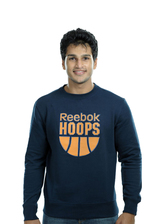clothoes: (19, 82, 143, 218)
